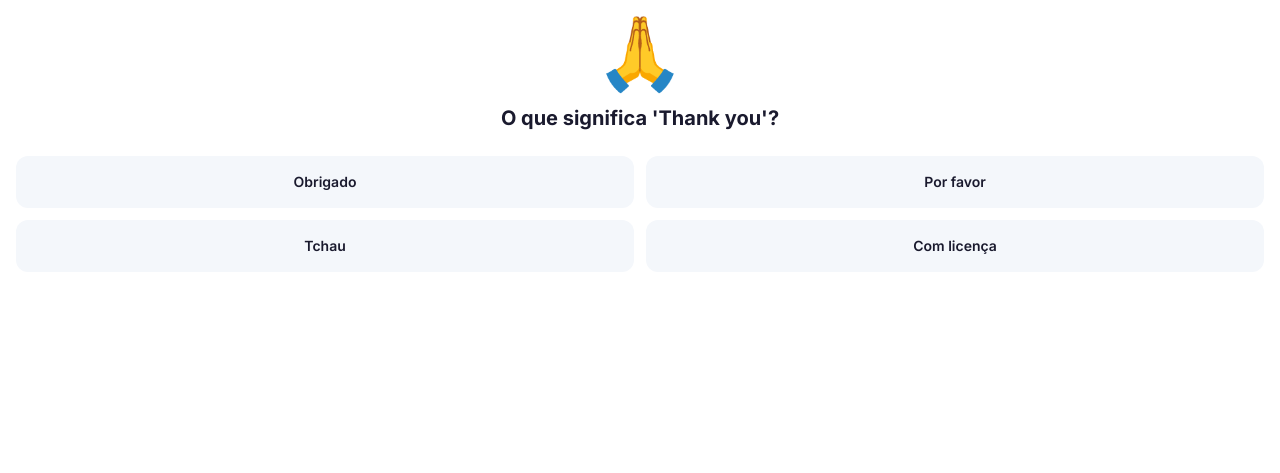
ExerciseChoiceStep › shows success feedback when correct answer is selected
Click the button "Obrigado" at (325, 182), box x1=16 y1=156 x2=634 y2=208
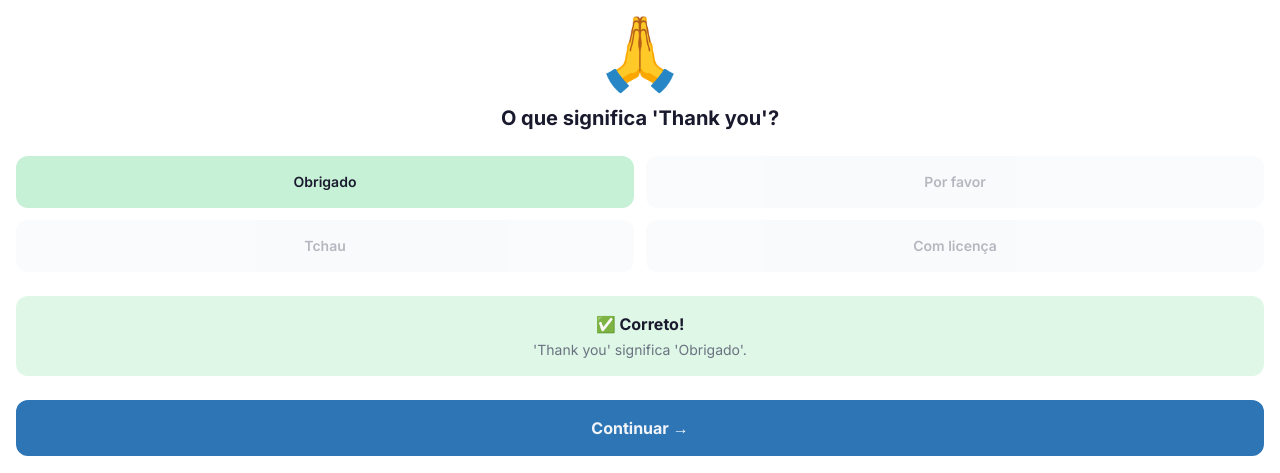
Expected: the text "✅ Correto!" is shown, x1=596 y1=314 x2=684 y2=334
Expected: the text "'Thank you' significa 'Obrigado'." is shown, x1=533 y1=341 x2=747 y2=358
